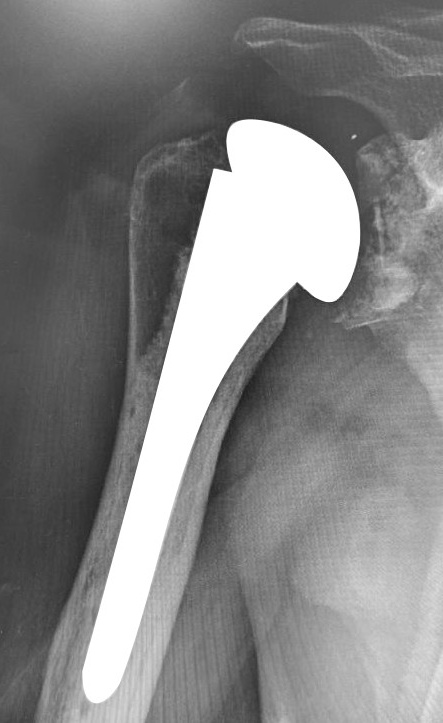Shoulder - Anotomical - Stryker: (199, 113, 366, 313)
